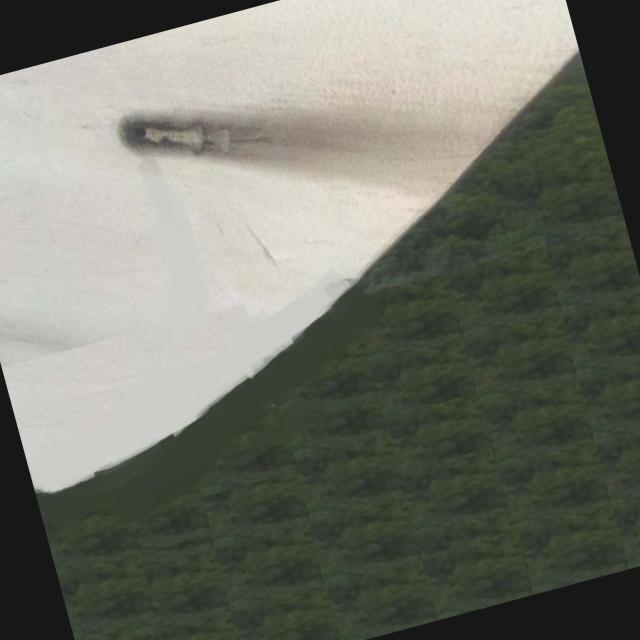crack: (106, 45, 385, 240)
